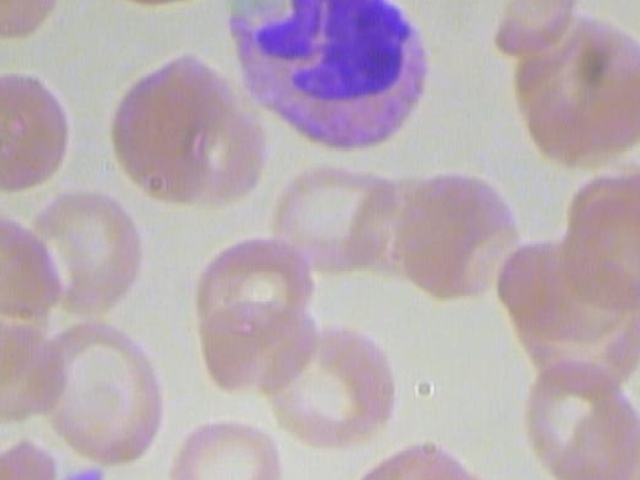RBC: (28, 312, 165, 470), (249, 323, 400, 453), (260, 150, 397, 290), (395, 163, 526, 304), (24, 182, 151, 323), (520, 356, 640, 480), (0, 62, 85, 199), (0, 293, 68, 434), (155, 413, 286, 480), (343, 430, 480, 480), (0, 0, 76, 44)
